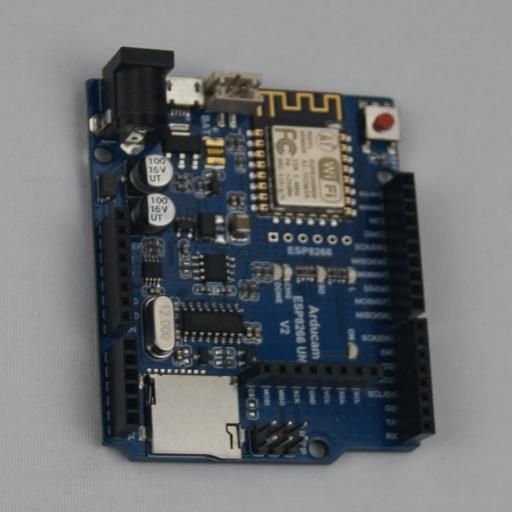Arduino Uno Camera Shield: (85, 46, 435, 466)
